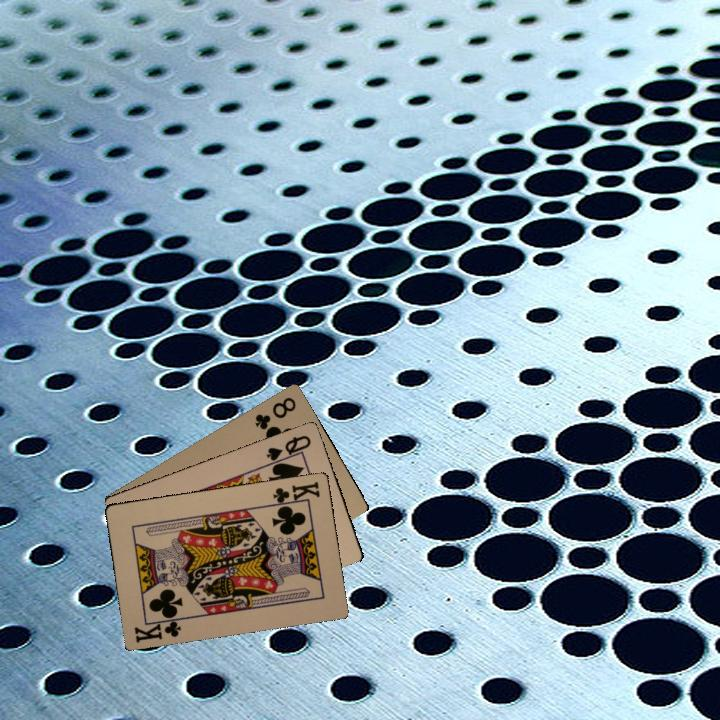8c: (251, 393, 299, 432)
Kc: (268, 477, 322, 509), (130, 614, 184, 645)
Qs: (262, 431, 313, 468)
